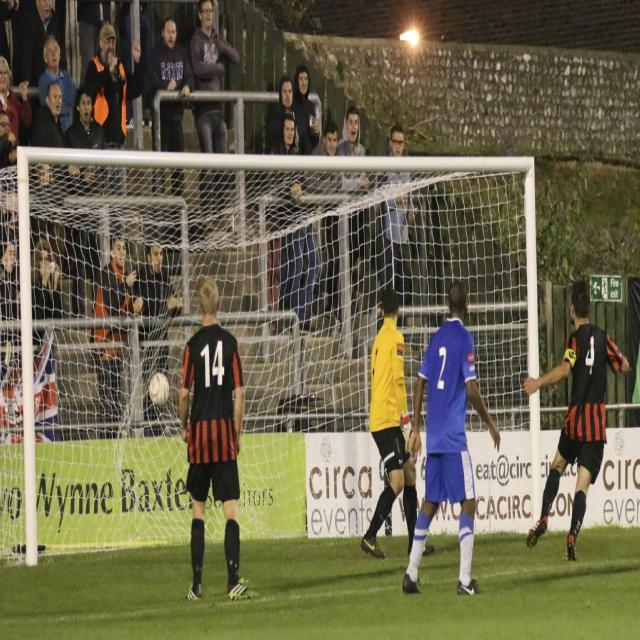ball: (150, 371, 169, 407)
